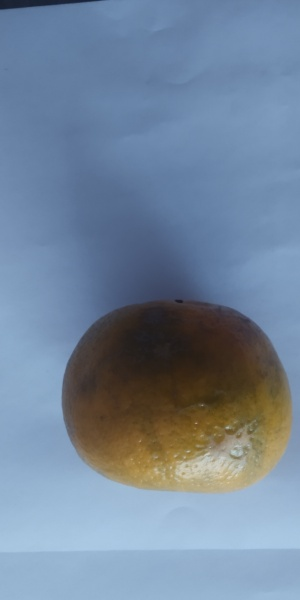BAD: (55, 298, 298, 491)
